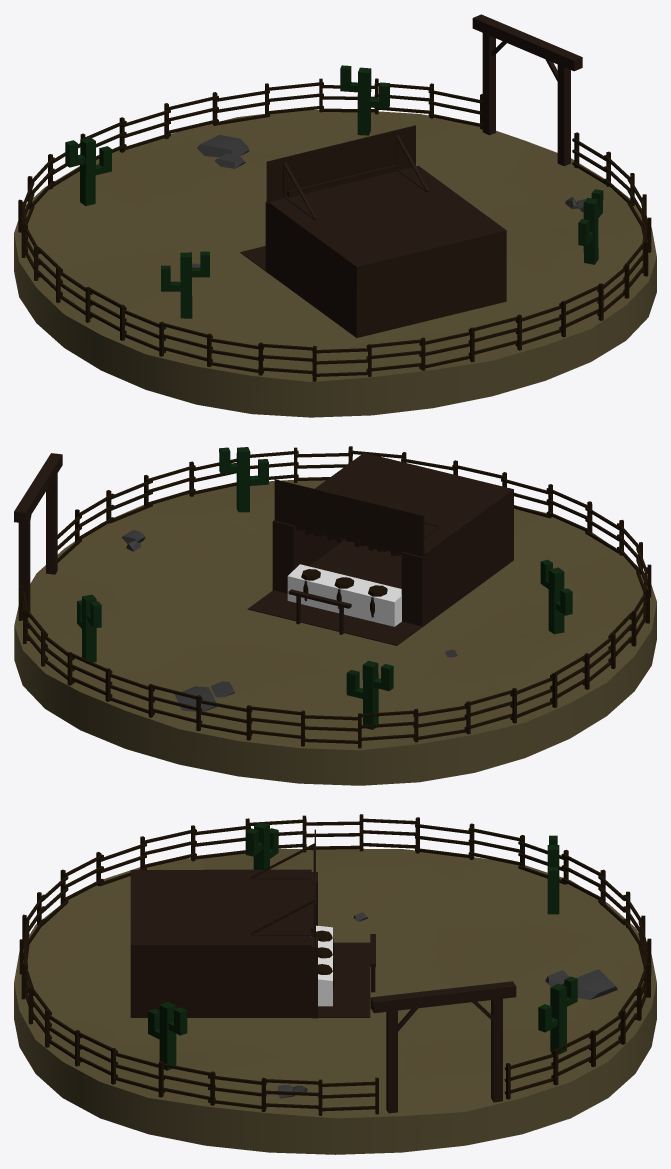
The model's file is Enviro_blockout_free.fbx.
3 views of the same model, one above another, from view 1: azimuth 30°, elevation 25°; view 2: azimuth 150°, elevation 25°; view 3: azimuth 270°, elevation 25° (orthographic). The views are drawn at different scales.
Visible parts, largest first — view 1: Terrain_Free, Building_Free, Box023, Cactus_Free, RanchEntrance, Rocks_Free; view 2: Terrain_Free, Building_Free, Box023, Cactus_Free, Box001, RanchEntrance, Rocks_Free, Barrel_Free, HitchingPost_Free; view 3: Terrain_Free, Building_Free, Box023, Cactus_Free, RanchEntrance, Rocks_Free, Box001, Barrel_Free.
Part boxes in pixels (x1,y1,x2,y2): Terrain_Free: [14, 110, 656, 417]; Building_Free: [240, 125, 506, 337]; Box023: [18, 78, 651, 381]; Cactus_Free: [65, 65, 603, 318]; RanchEntrance: [472, 14, 582, 166]; Rocks_Free: [192, 135, 586, 267]; Terrain_Free: [14, 480, 656, 785]; Building_Free: [247, 452, 513, 645]; Box023: [18, 446, 651, 748]; Cactus_Free: [77, 447, 572, 729]; Box001: [287, 564, 401, 626]; RanchEntrance: [14, 453, 62, 613]; Rocks_Free: [121, 530, 457, 711]; Barrel_Free: [301, 569, 387, 617]; HitchingPost_Free: [288, 589, 351, 634]; Terrain_Free: [14, 848, 656, 1154]; Building_Free: [130, 829, 370, 1018]; Box023: [19, 814, 651, 1115]; Cactus_Free: [148, 822, 577, 1070]; RanchEntrance: [370, 981, 516, 1113]; Rocks_Free: [278, 912, 617, 1098]; Box001: [316, 925, 332, 1006]; Barrel_Free: [312, 930, 334, 992].
Bounding box in the file's own units: 1995 × 514 × 1995.
